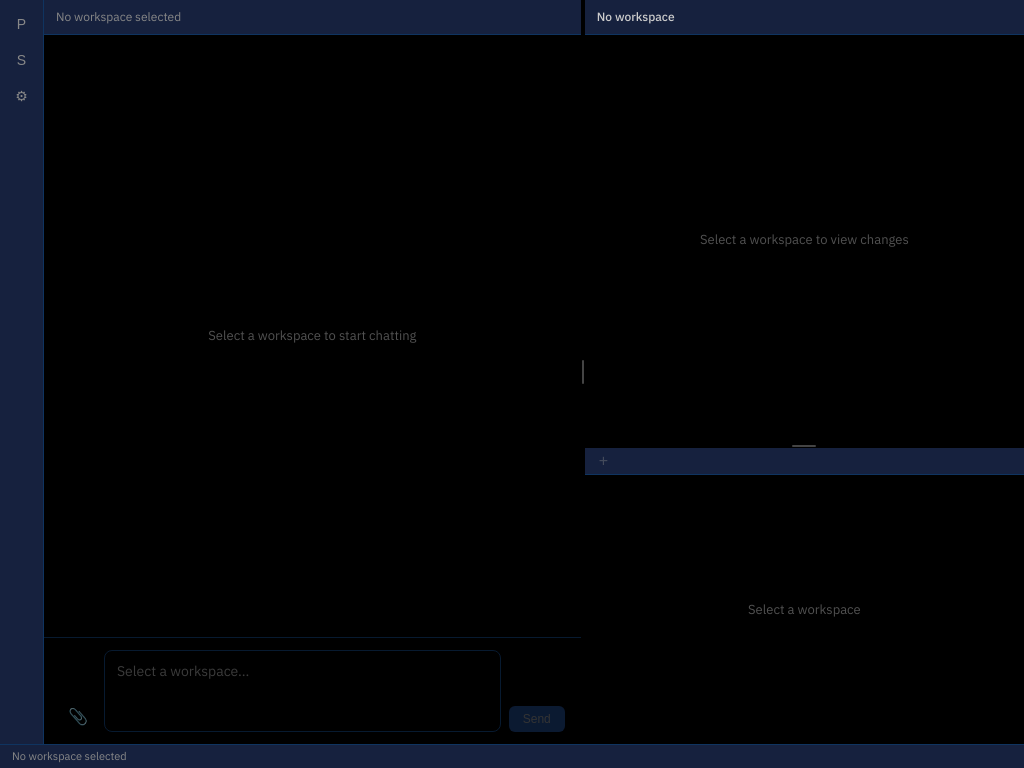
Test: Workflow: Workspace Status Indicators › shows status indicators in sidebar for each workspace
// Open sidebar and expand project
Click the button titled "projects" at point(22, 24), box [6,8,38,40]
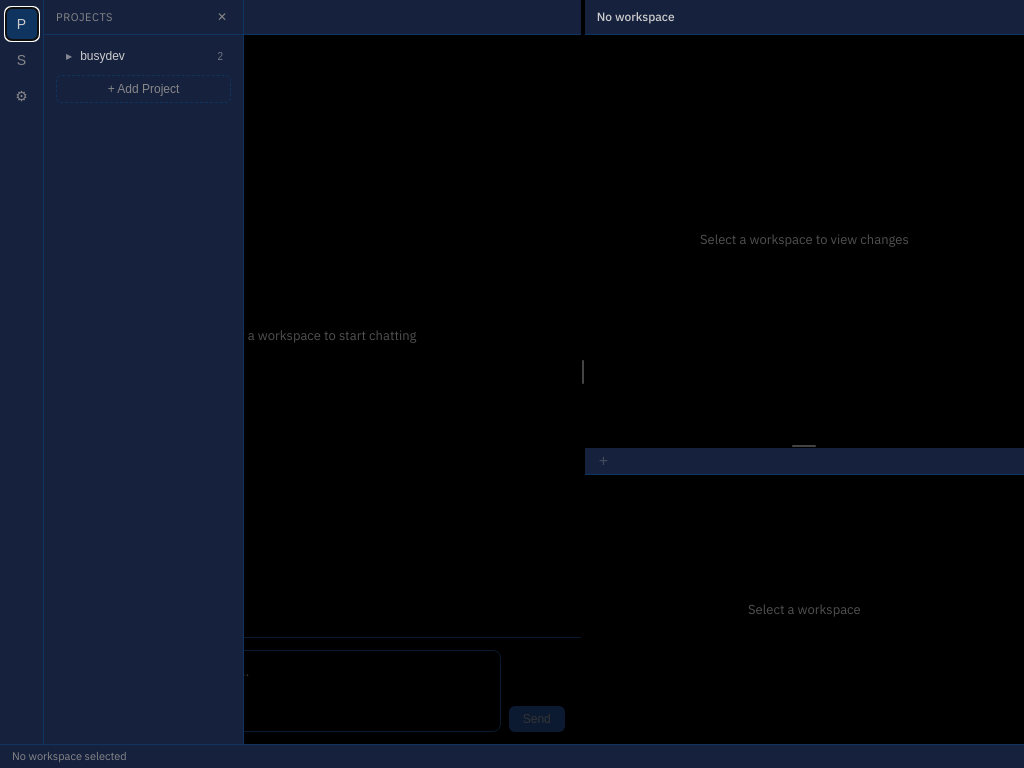
Check: the text "busydev" is shown
Click the text "busydev" at point(103, 56), box [80,49,125,63]
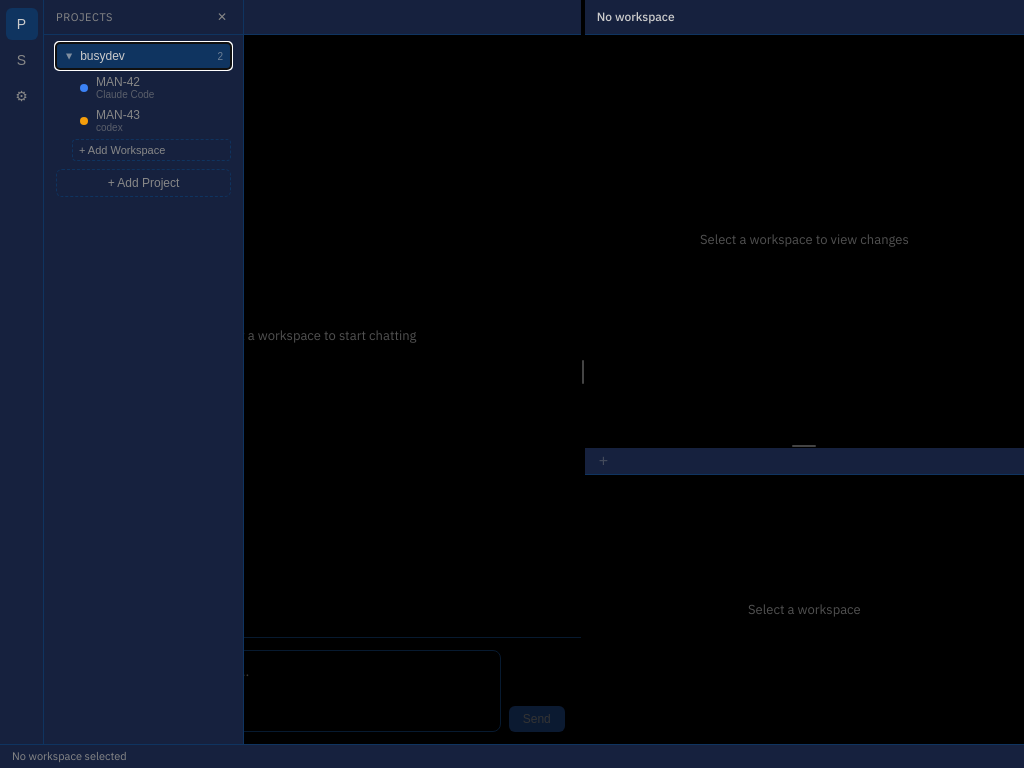
Check: the text "MAN-42" is shown, box [96,75,140,89]
Check: the text "MAN-43" is shown, box [96,108,140,122]
Check: the element titled "Running" is shown, box [80,84,88,92]
